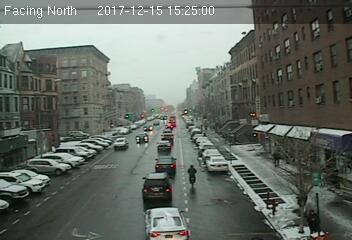bicycle: (187, 164, 199, 191)
car: (143, 206, 189, 240), (142, 174, 173, 201), (153, 156, 177, 175), (205, 156, 230, 173), (114, 138, 129, 150), (157, 140, 171, 151), (134, 134, 149, 144)
